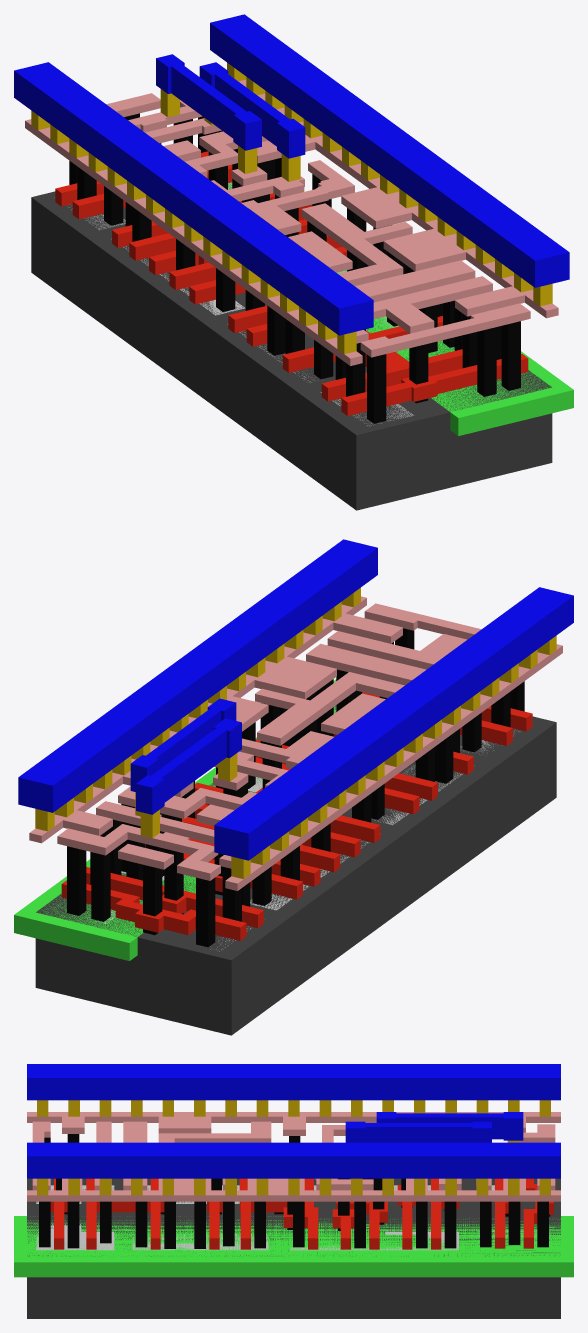
Rendered from sky130_fd_sc_hd__dlrbp_1.obj.
3 views of the same model, one above another, from view 1: azimuth 30°, elevation 25°; view 2: azimuth 150°, elevation 25°; view 3: azimuth 270°, elevation 25° (orthographic). The views are drawn at different scales.
Visible parts, largest first — view 1: metal1, subs, li, licon, poly, mcon, nwell, diff; view 2: metal1, subs, li, licon, poly, mcon, nwell, diff; view 3: metal1, subs, nwell, li, licon, poly, mcon, tap.
Part boxes in pixels (x1,y1,x2,y2): metal1: (14, 14, 569, 335); subs: (31, 182, 552, 510); li: (25, 79, 558, 365); licon: (69, 113, 520, 423); poly: (55, 151, 528, 415); mcon: (31, 62, 552, 353); nwell: (228, 183, 573, 435); diff: (54, 197, 413, 426); metal1: (18, 539, 573, 860); subs: (35, 705, 556, 1035); li: (29, 596, 562, 890); licon: (67, 628, 524, 947); poly: (61, 692, 532, 940); mcon: (35, 587, 556, 878); nwell: (14, 679, 336, 960); diff: (210, 729, 519, 951); metal1: (27, 1064, 560, 1178); subs: (27, 1178, 560, 1318); nwell: (14, 1216, 573, 1277); li: (27, 1112, 560, 1201); licon: (39, 1134, 550, 1248); poly: (50, 1178, 553, 1249); mcon: (37, 1100, 550, 1195); tap: (36, 1224, 551, 1250).
Size of the model in its own units: 3.2 by 2.74 by 8.2.
